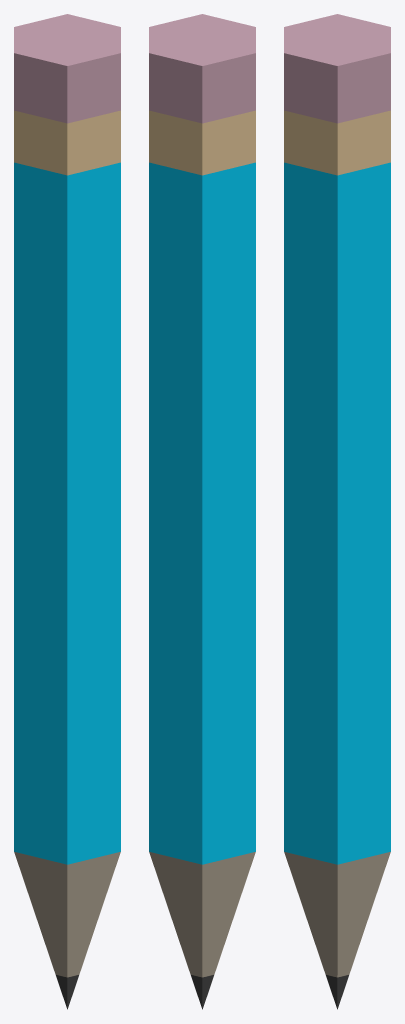
File: Pencil_edit.fbx
3 views of the same model, side by side, from view 1: azimuth 30°, elevation 25°; view 2: azimuth 210°, elevation 25°; view 3: azimuth 330°, elevation 25° (orthographic).
Parts seen in each view (by area): view 1: SM_Prop_Pencil_01_1; view 2: SM_Prop_Pencil_01_1; view 3: SM_Prop_Pencil_01_1.
Part boxes in pixels (left/top/right/bottom): SM_Prop_Pencil_01_1: left=14, top=14, right=120, bottom=1009; SM_Prop_Pencil_01_1: left=149, top=14, right=255, bottom=1009; SM_Prop_Pencil_01_1: left=284, top=14, right=390, bottom=1009.
Bounding box in the file's own units: 2.21 × 19.14 × 1.91.
